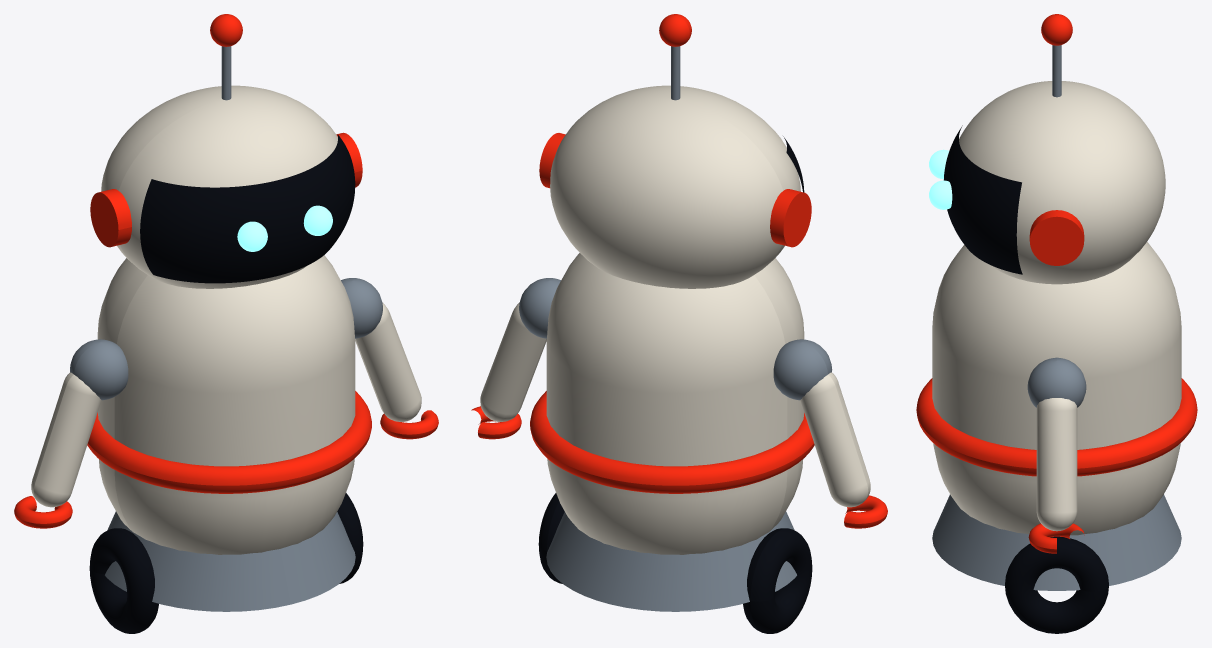
File: robot.glb
3 views of the same model, side by side, from view 1: azimuth 30°, elevation 25°; view 2: azimuth 150°, elevation 25°; view 3: azimuth 270°, elevation 25° (orthographic). The views are drawn at different scales.
Parts seen in each view (by area): view 1: Body, Head, Visor, Base, Belt, ArmL, WheelL, ArmR, ShoulderL, EarL, ShoulderR, HandL (+6 smaller); view 2: Body, Head, Base, Belt, ArmL, WheelL, ArmR, ShoulderL, EarL, ShoulderR, WheelR, HandL (+3 smaller); view 3: Body, Head, Base, Belt, WheelR, Visor, ArmR, EarR, ShoulderR, HandR, AntennaTip, EyeR (+2 smaller).
Boxes of the visible parts, bbox=[...] form: Body: bbox=[97, 255, 355, 554]; Head: bbox=[101, 85, 337, 288]; Visor: bbox=[140, 134, 355, 283]; Base: bbox=[105, 511, 355, 611]; Belt: bbox=[87, 391, 371, 493]; ArmL: bbox=[31, 372, 101, 507]; WheelL: bbox=[89, 528, 158, 633]; ArmR: bbox=[355, 302, 421, 421]; ShoulderL: bbox=[70, 339, 128, 400]; EarL: bbox=[90, 189, 131, 247]; ShoulderR: bbox=[341, 278, 382, 338]; HandL: bbox=[14, 496, 72, 528]; Body: bbox=[546, 253, 804, 554]; Head: bbox=[550, 85, 800, 288]; Base: bbox=[546, 511, 796, 611]; Belt: bbox=[530, 391, 814, 493]; ArmL: bbox=[800, 372, 870, 507]; WheelL: bbox=[743, 528, 812, 633]; ArmR: bbox=[480, 302, 546, 421]; ShoulderL: bbox=[773, 339, 832, 400]; EarL: bbox=[770, 189, 811, 247]; ShoulderR: bbox=[519, 278, 560, 338]; WheelR: bbox=[538, 493, 564, 583]; HandL: bbox=[844, 495, 887, 528]; Body: bbox=[932, 242, 1181, 535]; Head: bbox=[959, 81, 1165, 284]; Base: bbox=[932, 494, 1181, 590]; Belt: bbox=[916, 378, 1197, 476]; WheelR: bbox=[1005, 536, 1108, 633]; Visor: bbox=[944, 125, 1022, 274]; ArmR: bbox=[1036, 398, 1077, 531]; EarR: bbox=[1029, 210, 1084, 265]; ShoulderR: bbox=[1027, 357, 1086, 407]; HandR: bbox=[1028, 523, 1084, 553]; AntennaTip: bbox=[1041, 14, 1072, 45]; EyeR: bbox=[929, 180, 952, 209].
Size of the model in its own units: 2.05 by 2.77 by 1.24.
